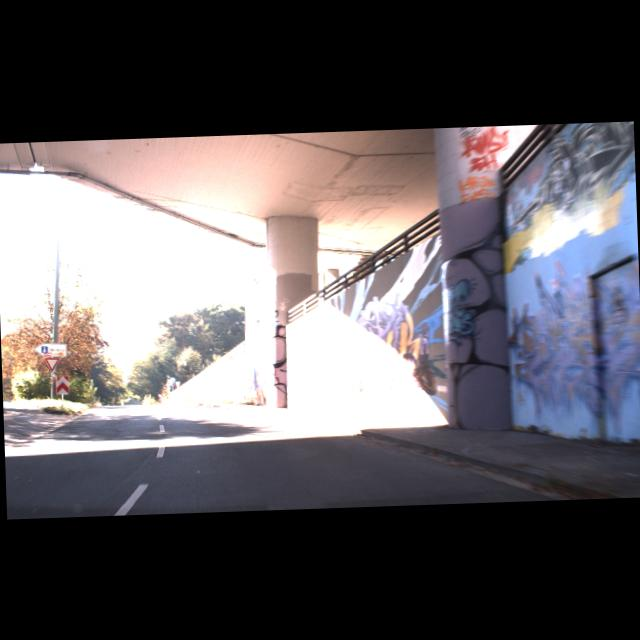other: (44, 356, 59, 371)
